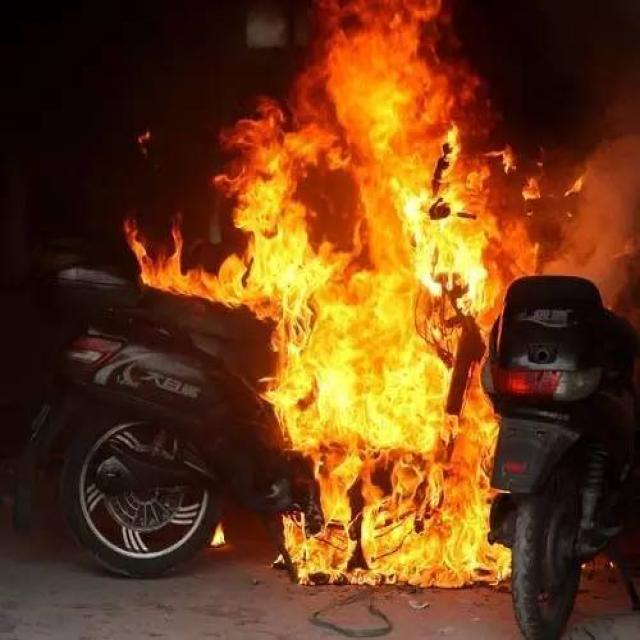Fire: (123, 1, 500, 311), (261, 312, 514, 588), (210, 522, 226, 550)
